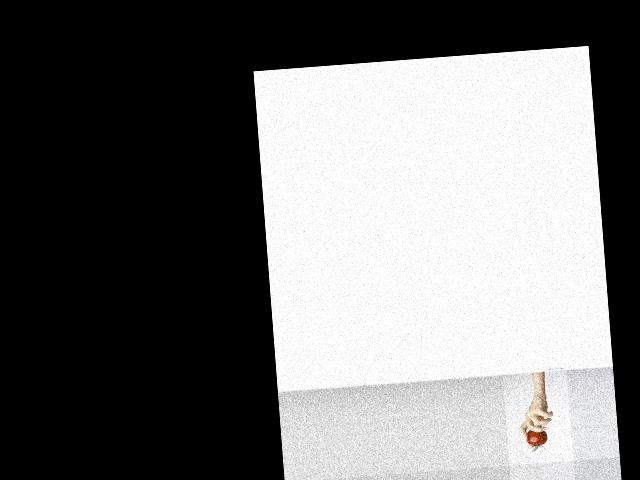tomato: (526, 429, 548, 452)
